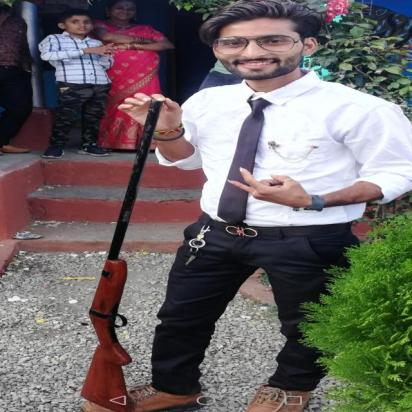Gun: (76, 98, 166, 412)
